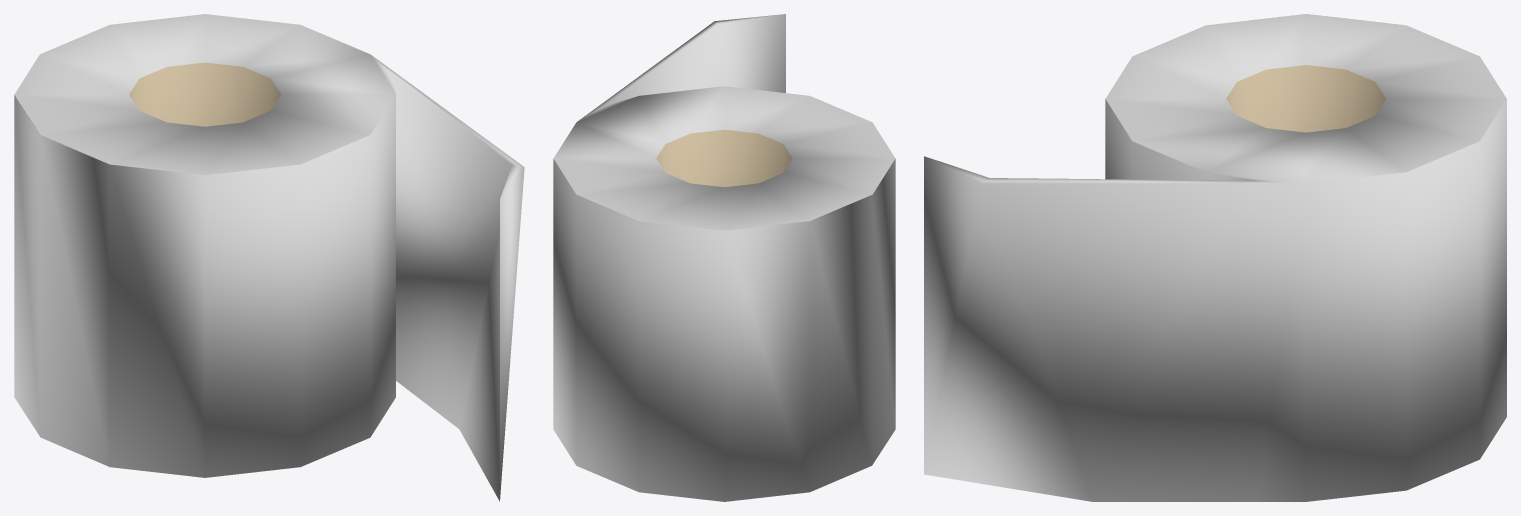
File: Cartaigienica.glb
3 views of the same model, side by side, from view 1: azimuth 30°, elevation 25°; view 2: azimuth 150°, elevation 25°; view 3: azimuth 270°, elevation 25° (orthographic). The views are drawn at different scales.
Parts seen in each view (by area): view 1: Cylinder; view 2: Cylinder; view 3: Cylinder.
Part boxes in pixels (box(x1,y1,x2,y2)): Cylinder: box(14, 14, 524, 501); Cylinder: box(553, 14, 895, 501); Cylinder: box(924, 14, 1506, 501).
Bounding box in the file's own units: 0.1922 × 0.1688 × 0.279.
